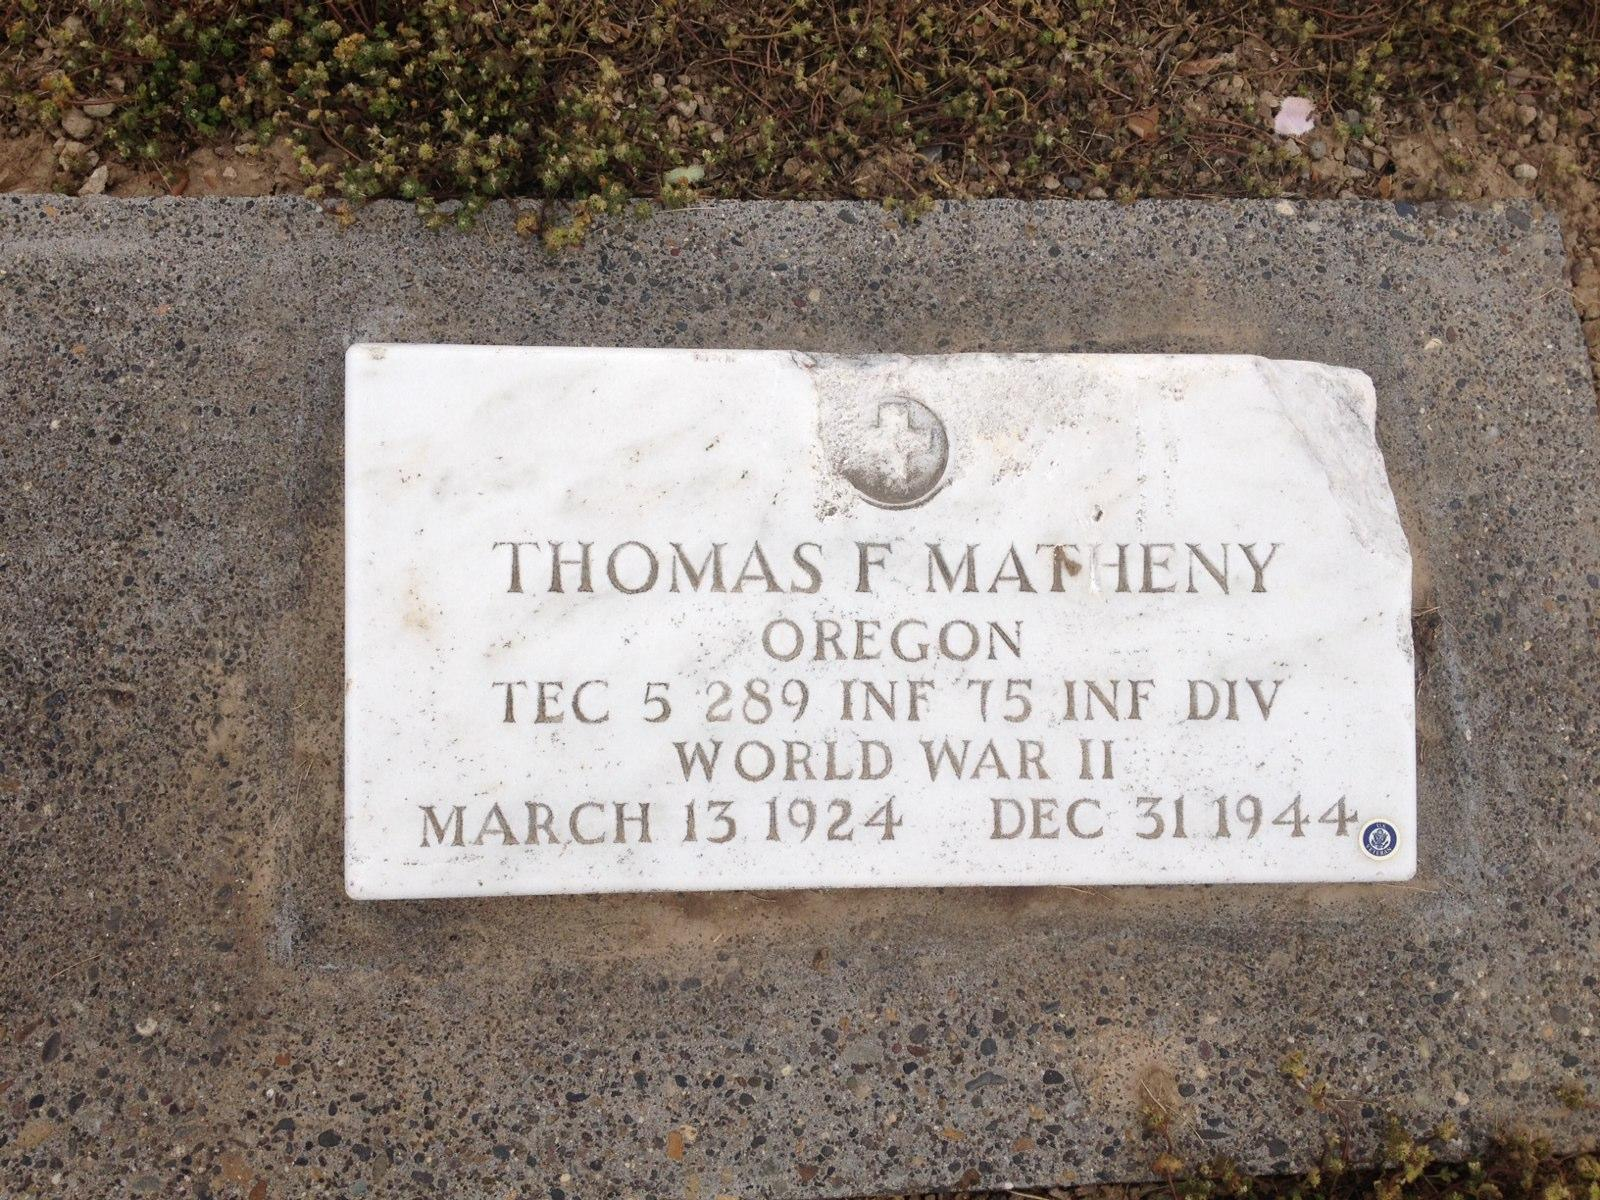flat: (0, 190, 1600, 1200)
